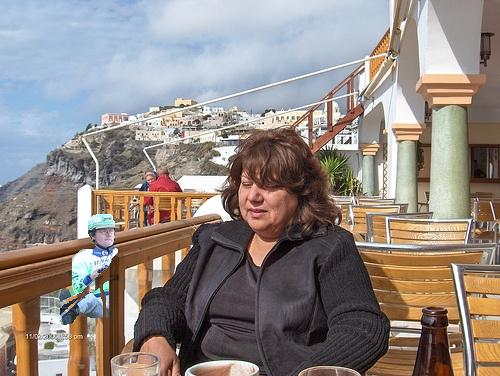tampered: (60, 215, 118, 325)
